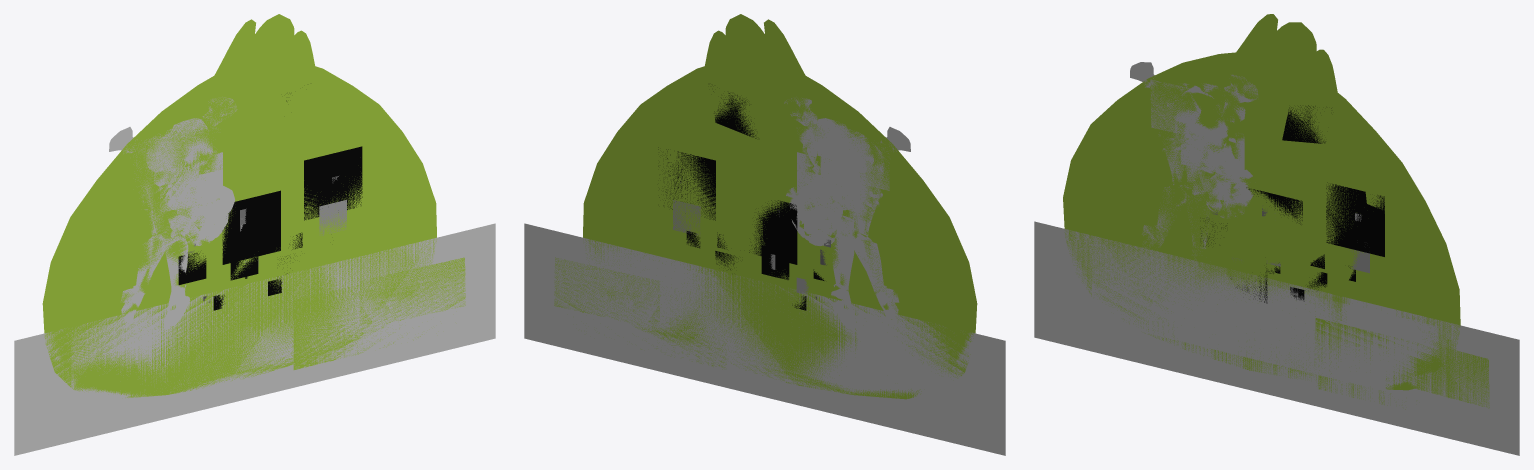
File: Skeleton Prefab Mesh _Eb_KingSlime_08_.glb
3 views of the same model, side by side, from view 1: azimuth 30°, elevation 25°; view 2: azimuth 150°, elevation 25°; view 3: azimuth 330°, elevation 25° (orthographic).
Visible parts, largest first — view 1: Skeleton Prefab Mesh "Eb_KingSlime_08"; view 2: Skeleton Prefab Mesh "Eb_KingSlime_08"; view 3: Skeleton Prefab Mesh "Eb_KingSlime_08".
Boxes of the visible parts, x1,y1,x2,y2 form: Skeleton Prefab Mesh "Eb_KingSlime_08": [14, 14, 495, 455]; Skeleton Prefab Mesh "Eb_KingSlime_08": [524, 14, 1005, 455]; Skeleton Prefab Mesh "Eb_KingSlime_08": [1034, 14, 1519, 455].
Size of the model in its own units: 5.03 by 3.78 by 0.
